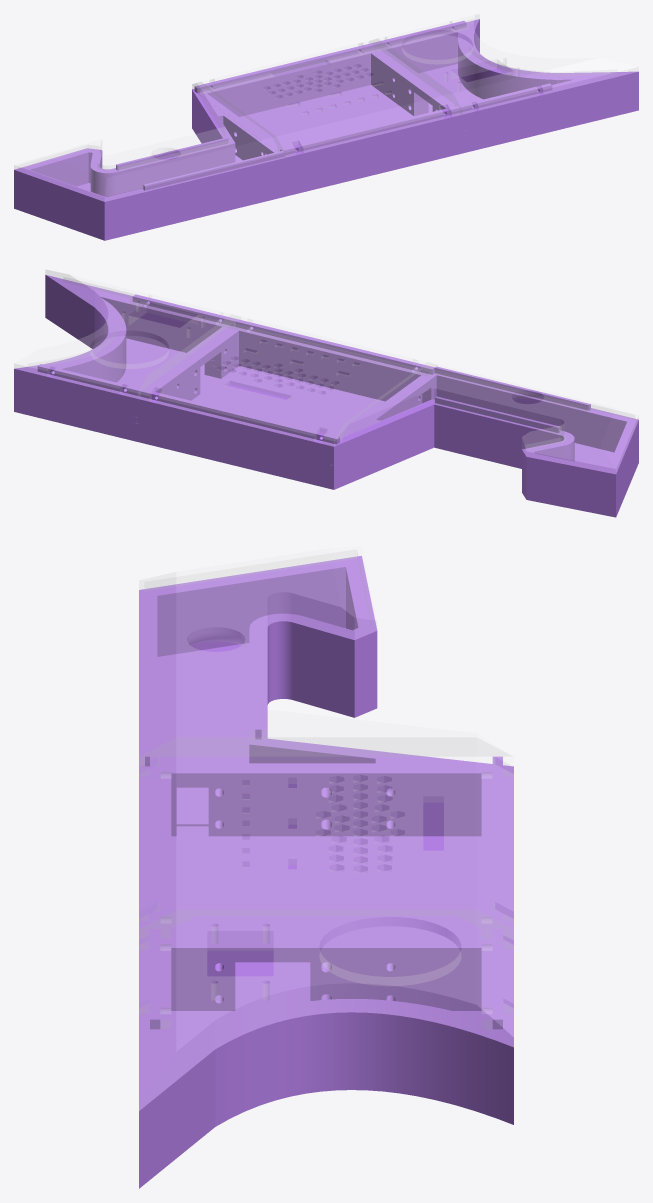
File: keytar.glb
3 renders of one model, top to bottom at view 1: azimuth 30°, elevation 25°; view 2: azimuth 150°, elevation 25°; view 3: azimuth 270°, elevation 25°, orthographic. The views are drawn at different scales.
Visible parts, largest first — view 1: Base_01-1, Neck_03-1, Top_Cover_01-1, Base_02-1, Neck_Cover_03-1, Top_Cover_02-1; view 2: Base_01-1, Neck_03-1, Top_Cover_01-1, Base_02-1, Neck_Cover_03-1, Top_Cover_02-1; view 3: Base_01-1, Top_Cover_01-1, Base_02-1, Neck_03-1, Top_Cover_02-1, Neck_Cover_03-1.
Boxes of the visible parts, x1=… form: Base_01-1: x1=192, y1=43, x2=466, y2=196; Neck_03-1: x1=14, y1=89, x2=290, y2=240; Top_Cover_01-1: x1=192, y1=39, x2=461, y2=156; Base_02-1: x1=372, y1=19, x2=638, y2=153; Neck_Cover_03-1: x1=14, y1=82, x2=284, y2=201; Top_Cover_02-1: x1=369, y1=14, x2=638, y2=113; Base_01-1: x1=132, y1=319, x2=434, y2=489; Neck_03-1: x1=329, y1=366, x2=638, y2=517; Top_Cover_01-1: x1=138, y1=314, x2=437, y2=445; Base_02-1: x1=14, y1=275, x2=238, y2=441; Neck_Cover_03-1: x1=335, y1=362, x2=638, y2=473; Top_Cover_02-1: x1=14, y1=270, x2=240, y2=397; Base_01-1: x1=139, y1=756, x2=513, y2=1001; Top_Cover_01-1: x1=139, y1=738, x2=513, y2=938; Base_02-1: x1=139, y1=929, x2=513, y2=1188; Neck_03-1: x1=139, y1=555, x2=510, y2=829; Top_Cover_02-1: x1=139, y1=910, x2=513, y2=1110; Neck_Cover_03-1: x1=139, y1=546, x2=511, y2=765.
Bounding box in the file's own units: 0.6138 × 0.0551 × 0.175.
